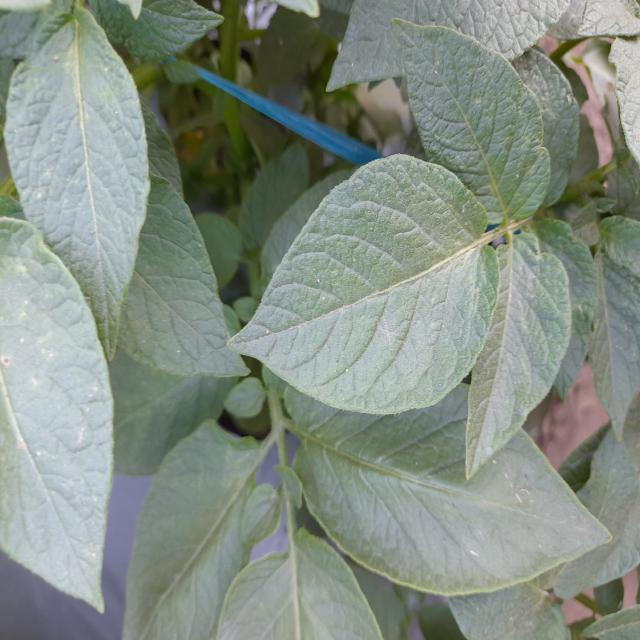healthy: (226, 152, 502, 418)
